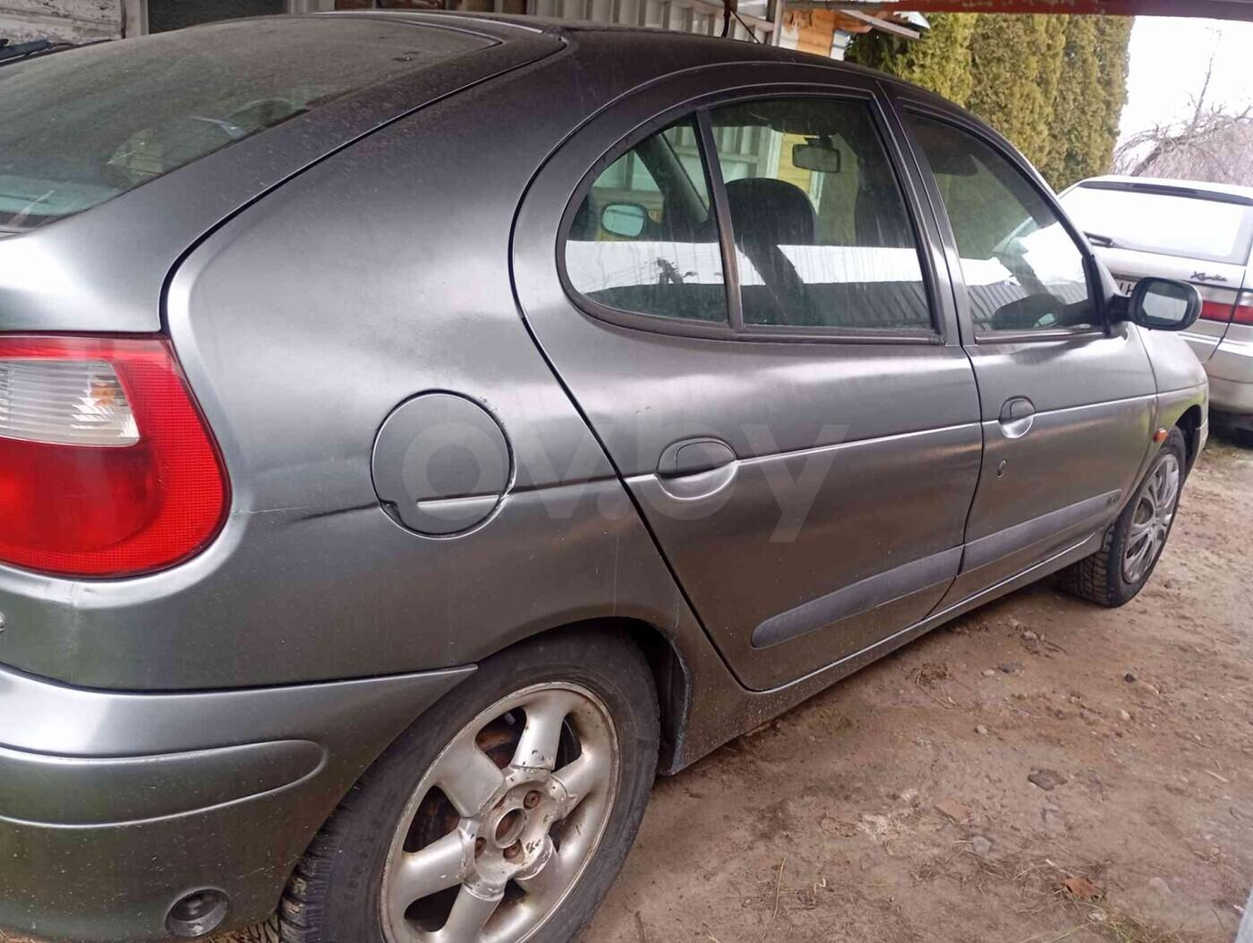Megane_1999-2003: (0, 0, 1215, 943)
